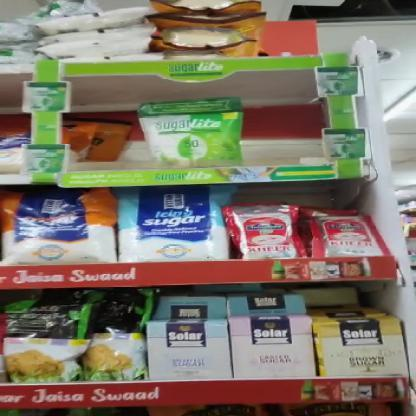SUGARLITE POUCH 500G: (138, 96, 245, 170)
